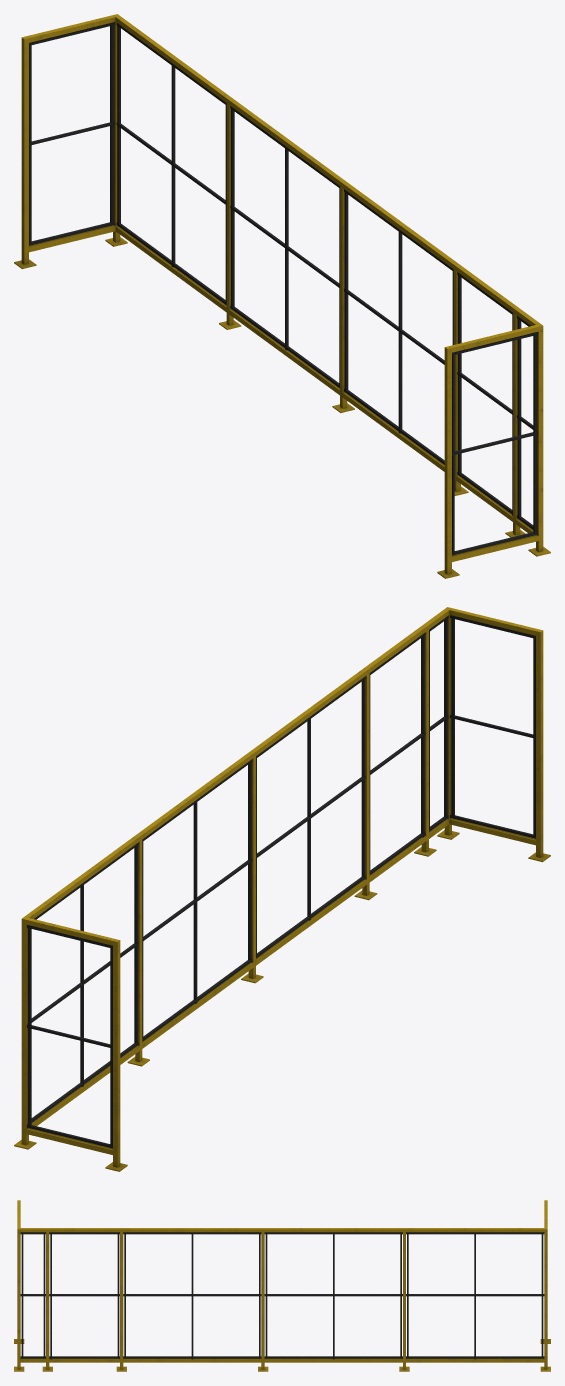
The model's file is Cage2.fbx.
3 renders of one model, top to bottom at view 1: azimuth 30°, elevation 25°; view 2: azimuth 150°, elevation 25°; view 3: azimuth 270°, elevation 25°, orthographic. The views are drawn at different scales.
Parts seen in each view (by area): view 1: Cage1; view 2: Cage1; view 3: Cage1.
Part boxes in pixels (<box>): Cage1: <box>14,14,550,578</box>; Cage1: <box>14,607,550,1171</box>; Cage1: <box>14,1200,550,1371</box>.
Bounding box in the file's own units: 97.5 × 200 × 690.
